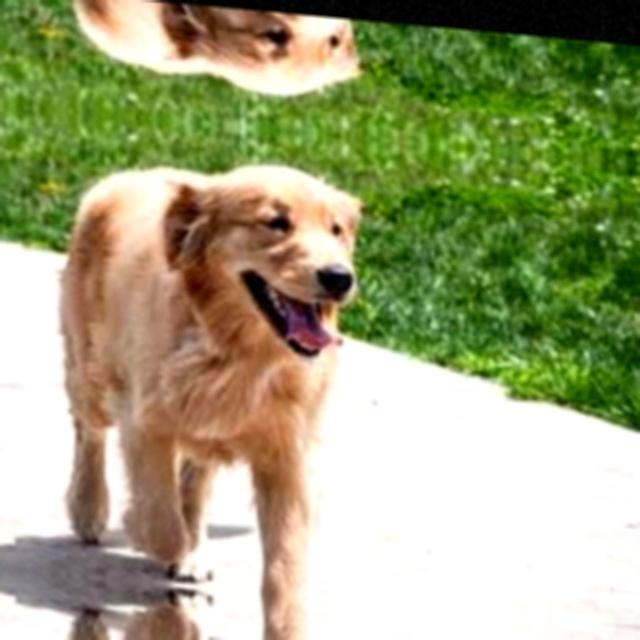dog: (29, 135, 367, 603), (27, 0, 362, 109), (34, 572, 368, 640)
